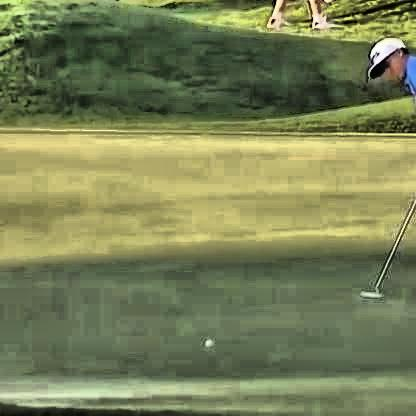golfball: (203, 335, 210, 345)
